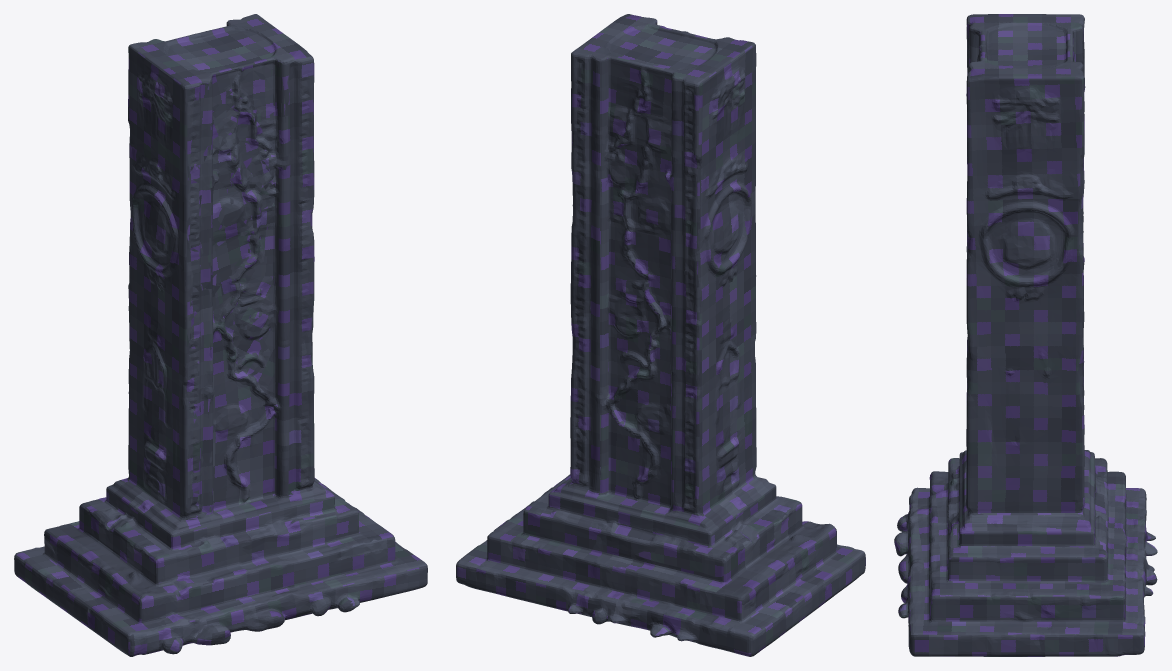
File: weathered-monolith-pillar-generated-2026-04-19T23-27-04-251Z.glb
3 renders of one model, left to right at view 1: azimuth 30°, elevation 25°; view 2: azimuth 150°, elevation 25°; view 3: azimuth 270°, elevation 25°, orthographic.
Parts seen in each view (by area): view 1: temp_mesh.ply; view 2: temp_mesh.ply; view 3: temp_mesh.ply.
Boxes of the visible parts, x1,y1,x2,y2 form: temp_mesh.ply: [14, 14, 427, 656]; temp_mesh.ply: [456, 14, 865, 656]; temp_mesh.ply: [894, 14, 1157, 656].
Size of the model in its own units: 1.17 by 1.97 by 0.8741.
1 material, 1 textured.
